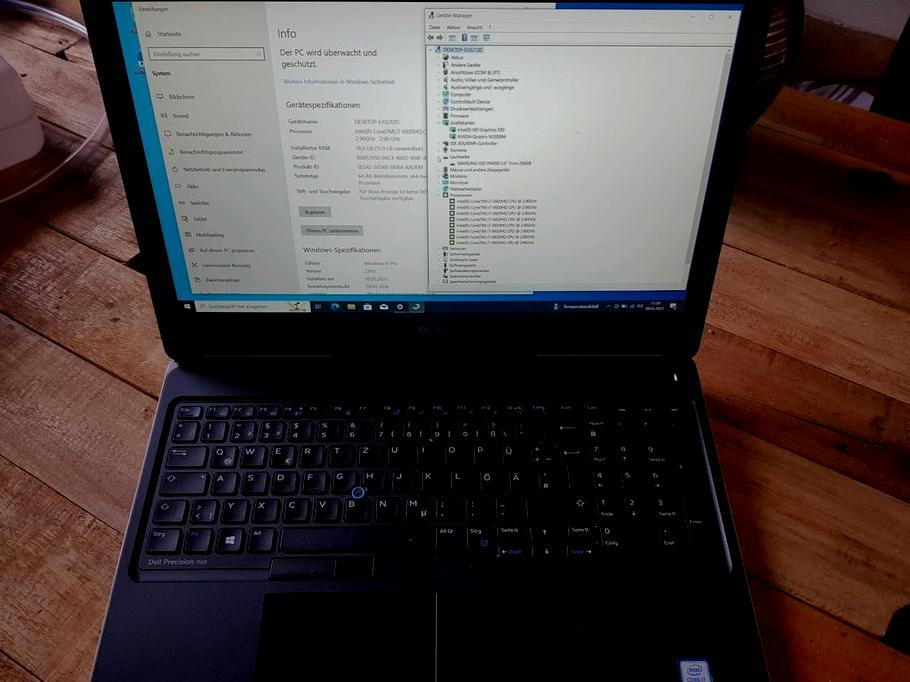0: (455, 416, 479, 438)
1: (198, 417, 225, 439)
2: (228, 417, 254, 439)
3: (256, 417, 283, 439)
4: (285, 416, 310, 439)
5: (314, 417, 339, 439)
6: (342, 416, 367, 438)
7: (371, 416, 396, 439)
8: (399, 416, 424, 439)
9: (427, 416, 452, 438)
a: (208, 468, 235, 492)
accent: (511, 416, 536, 438)
ae: (506, 466, 532, 490)
alt-left: (245, 523, 272, 550)
altgr-right: (432, 522, 459, 548)
b: (341, 495, 367, 518)
c: (280, 494, 306, 519)
caret: (168, 418, 195, 439)
comma: (432, 493, 457, 518)
d: (269, 467, 295, 491)
del: (541, 416, 579, 438)
e: (267, 441, 293, 465)
enter: (555, 442, 585, 491)
f: (299, 467, 324, 491)
g: (329, 466, 353, 489)
h: (358, 466, 384, 488)
hash: (535, 465, 561, 490)
i: (413, 441, 437, 463)
j: (389, 466, 413, 490)
k: (418, 466, 443, 490)
keyboard: (130, 391, 729, 571)
l: (447, 466, 473, 490)
less: (187, 495, 215, 521)
m: (401, 493, 428, 519)
minus: (492, 493, 518, 518)
n: (371, 493, 397, 518)
o: (441, 441, 467, 464)
oe: (477, 467, 502, 491)
p: (470, 441, 495, 464)
plus: (528, 440, 553, 464)
point: (462, 494, 488, 518)
q: (207, 442, 234, 465)
r: (296, 440, 321, 464)
s: (239, 468, 265, 491)
shift-left: (149, 496, 184, 521)
shift-lock: (156, 468, 206, 492)
shift-right: (523, 493, 591, 518)
space: (277, 522, 427, 549)
ss: (482, 416, 508, 438)
strg-left: (141, 524, 179, 550)
strg-right: (464, 522, 490, 548)
t: (326, 441, 350, 463)
tab: (162, 442, 204, 465)
u: (384, 440, 408, 464)
ue: (498, 440, 524, 464)
v: (311, 494, 336, 519)
w: (237, 441, 263, 464)
x: (250, 495, 276, 520)
y: (218, 495, 245, 520)
z: (355, 441, 380, 463)
